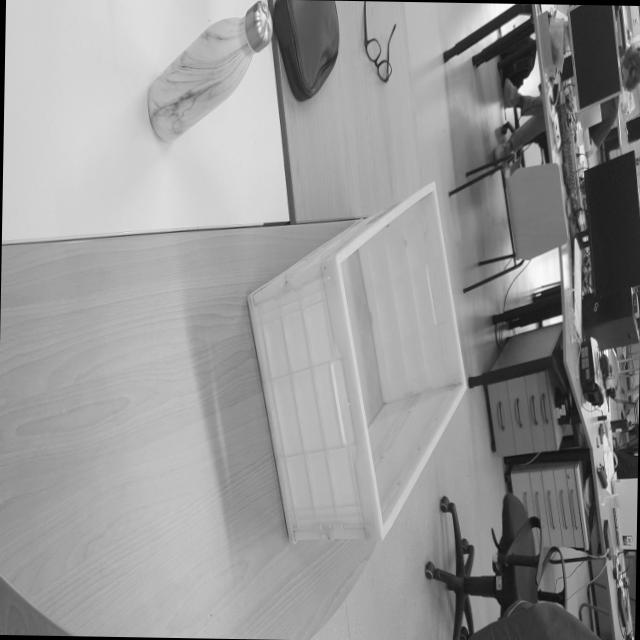box: (237, 174, 476, 576)
